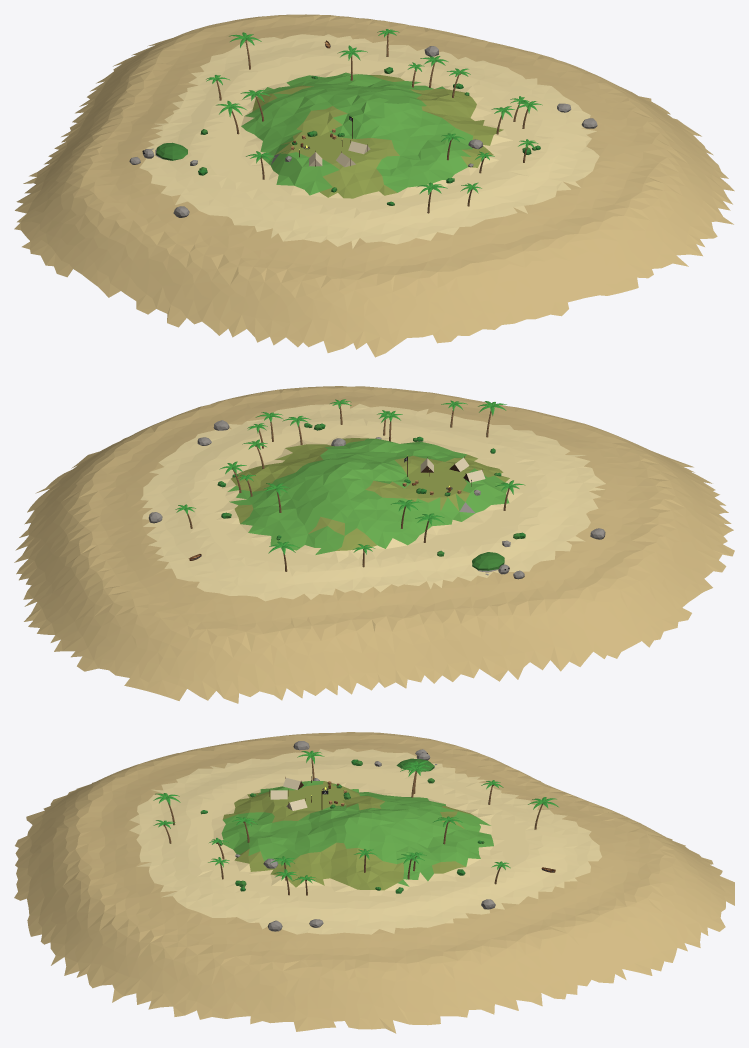
The model's file is Island_Turtle.fbx.
The picture shows the model from 3 angles, top to bottom: view 1: azimuth 30°, elevation 25°; view 2: azimuth 150°, elevation 25°; view 3: azimuth 270°, elevation 25°; orthographic projection. The views are drawn at different scales.
Parts seen in each view (by area): view 1: Terrain, TurtleRock; view 2: Terrain, TurtleRock; view 3: Terrain.
Part boxes in pixels (x1,y1,x2,y2): Terrain: [14, 14, 734, 357]; TurtleRock: [142, 142, 187, 160]; Terrain: [14, 386, 734, 703]; TurtleRock: [472, 552, 509, 575]; Terrain: [14, 732, 734, 1033].
Bounding box in the file's own units: 192 × 27.83 × 202.
